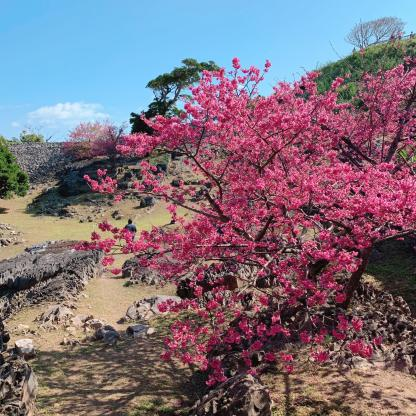KanhiSakura: (78, 51, 416, 389)
